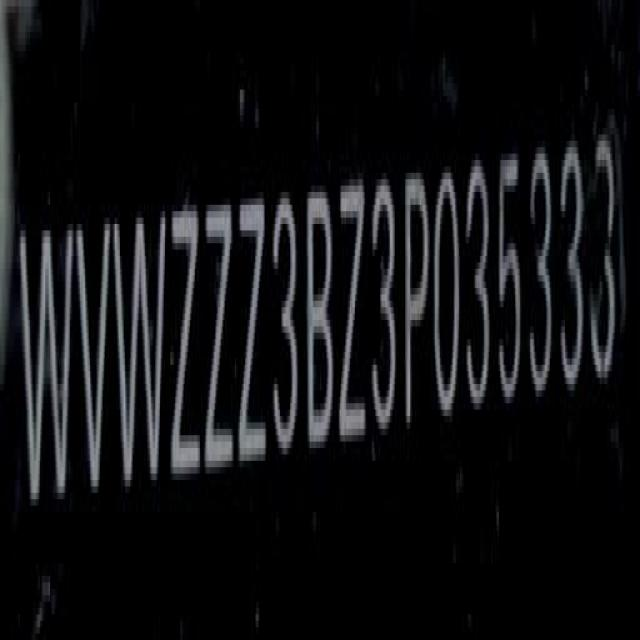0: (434, 169, 459, 427)
3: (273, 187, 300, 468), (372, 173, 399, 446), (558, 136, 585, 398), (466, 156, 492, 417), (590, 133, 616, 393), (530, 144, 554, 406)
5: (498, 146, 524, 409)
B: (306, 179, 336, 459)
P: (404, 167, 432, 434)
V: (75, 228, 113, 493)
W: (112, 208, 169, 484), (20, 222, 70, 521)
Z: (172, 196, 204, 494), (236, 185, 267, 478), (205, 193, 234, 486), (341, 174, 369, 454)
